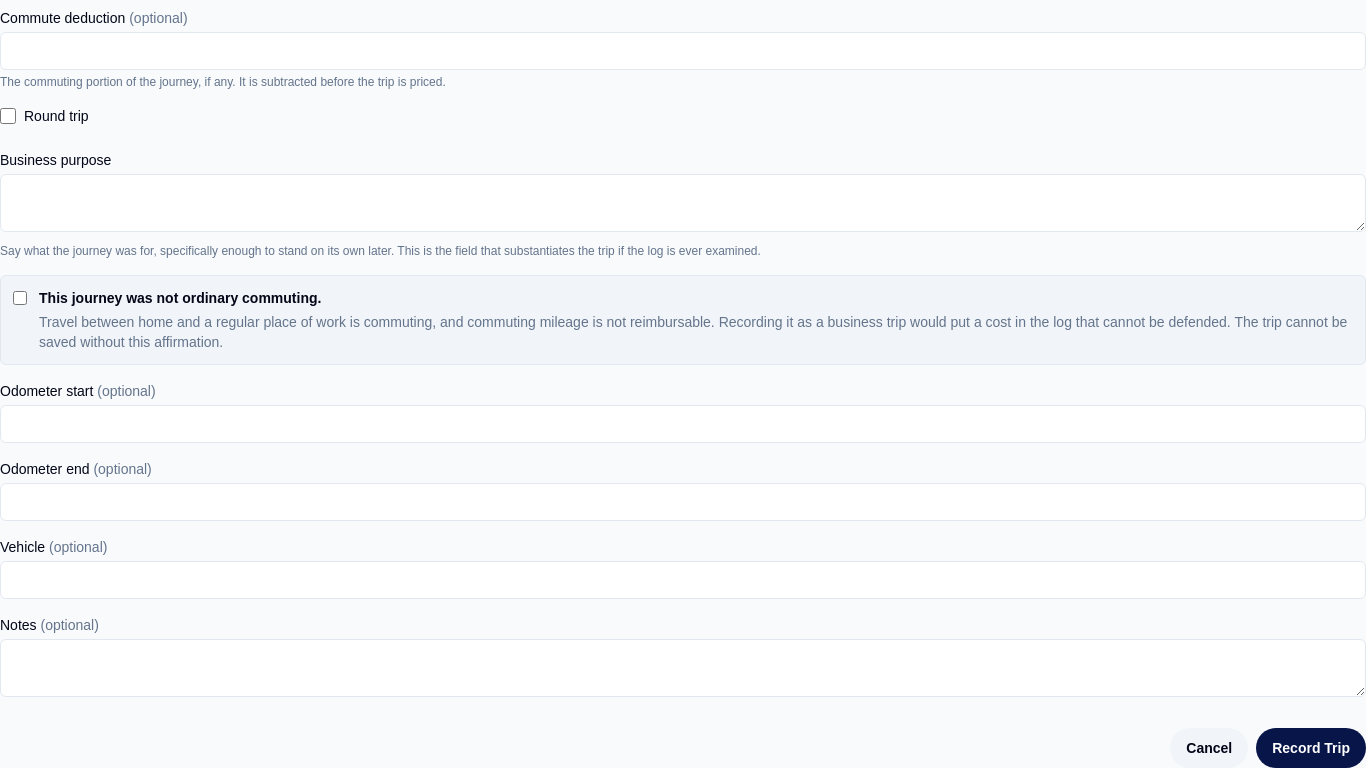
Test case: MhdTripForm numeric fields › asks for the miles in words when they are left blank, not "expected number, received NaN"
(page scrolled)
Click the button "Record trip". click: (1311, 748)
box: [1256,728,1365,767]
(page scrolled)
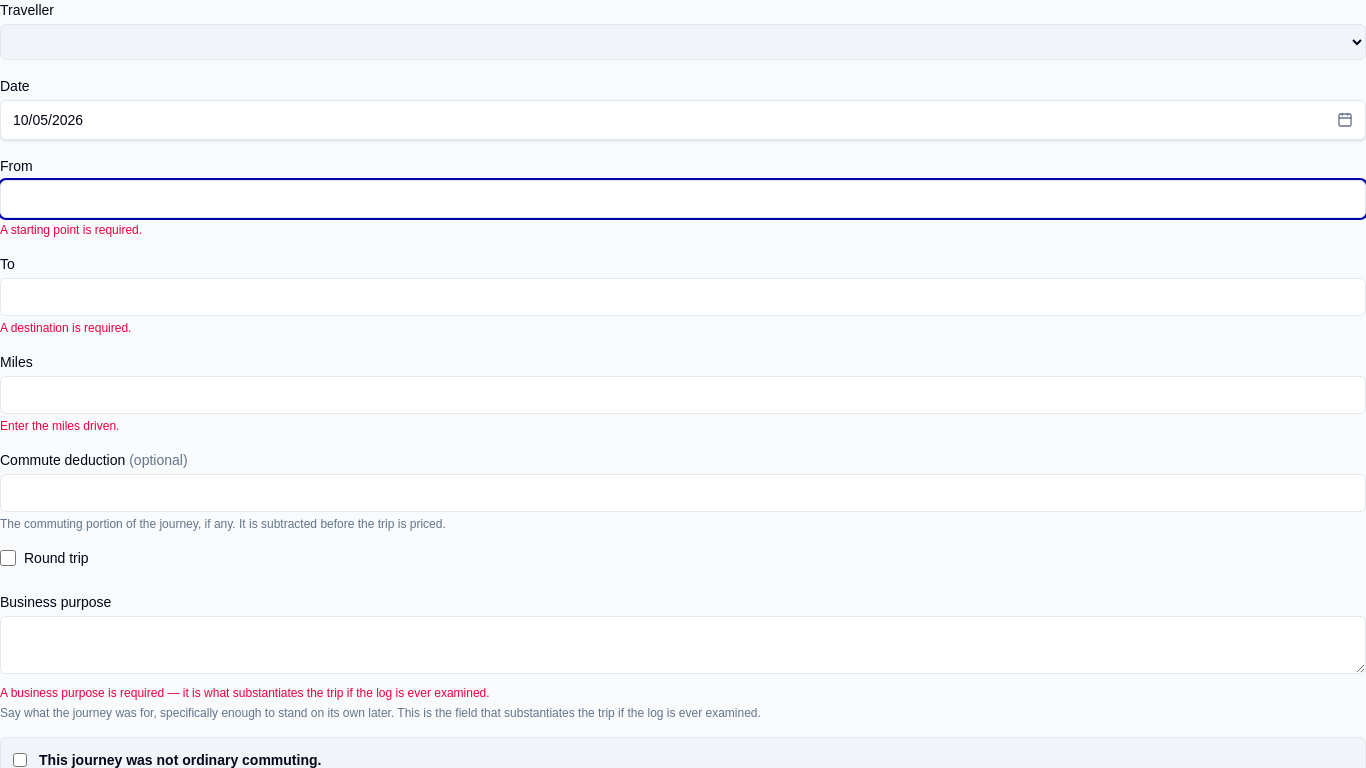
Result: the text "Enter the miles driven." is shown at [0,419,119,433]
